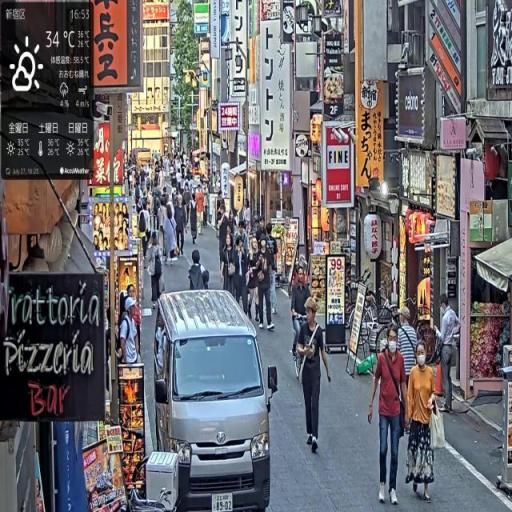person: (368, 322, 411, 508), (293, 297, 333, 454), (405, 341, 441, 503), (436, 295, 461, 416), (246, 238, 263, 325), (146, 231, 164, 310), (234, 234, 251, 316), (221, 231, 239, 304), (189, 249, 212, 291), (176, 197, 189, 261)
